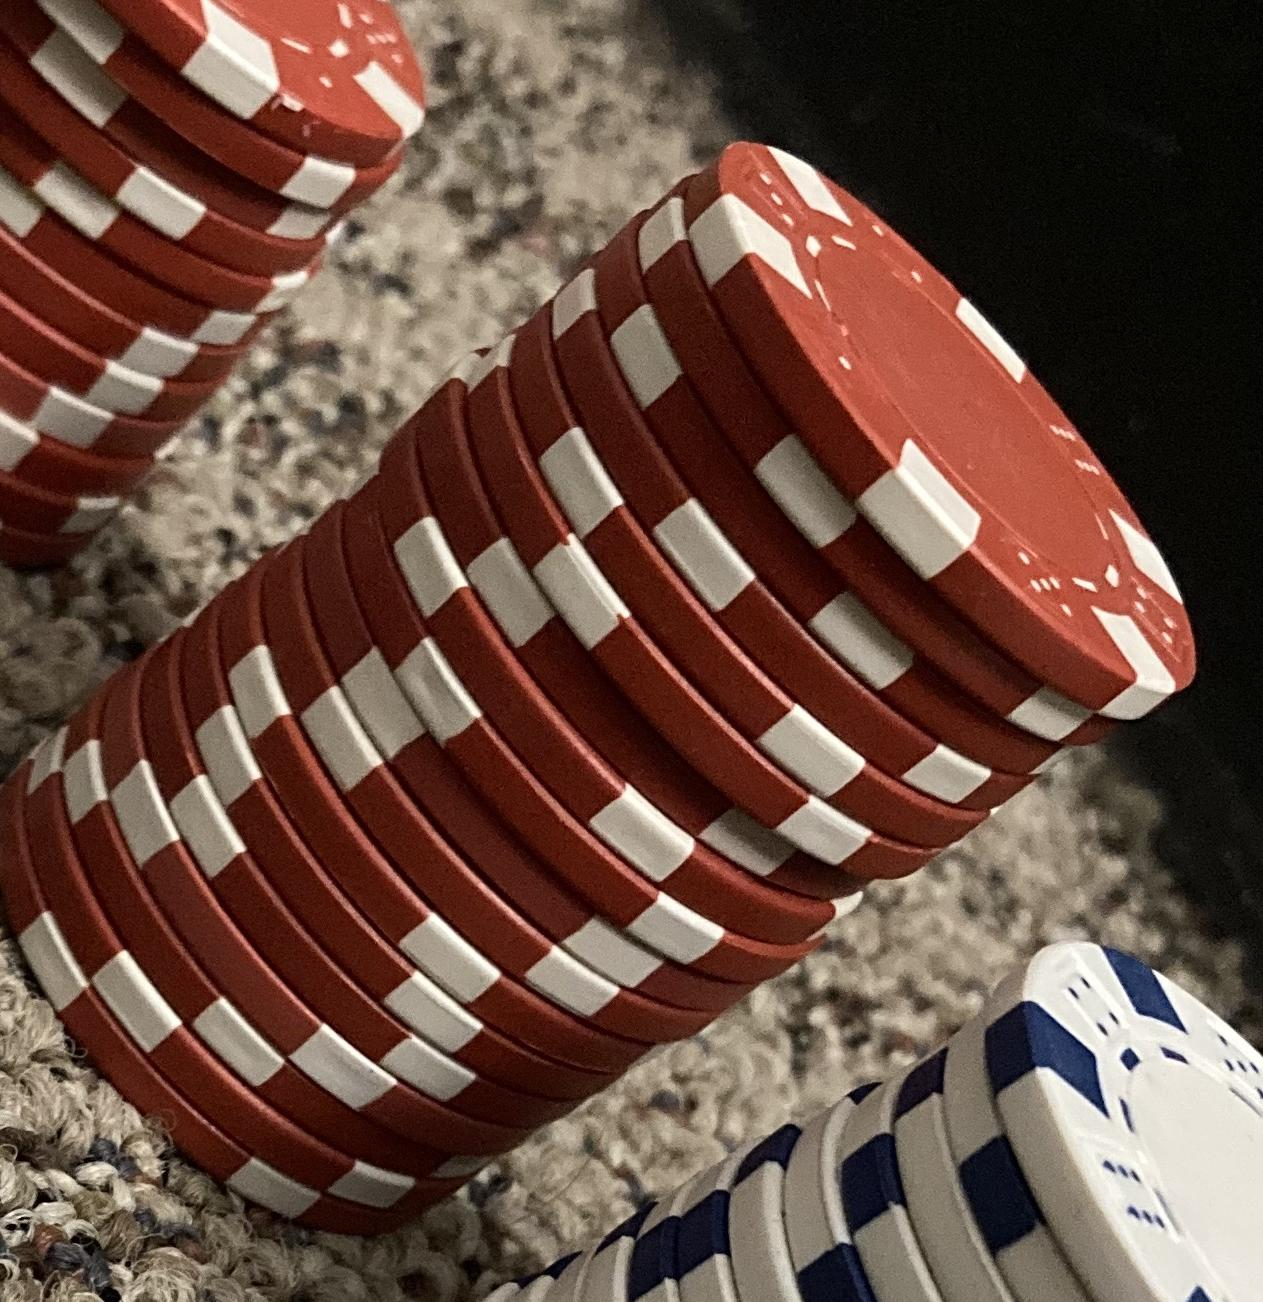Chip: (1, 1, 1263, 1302)
